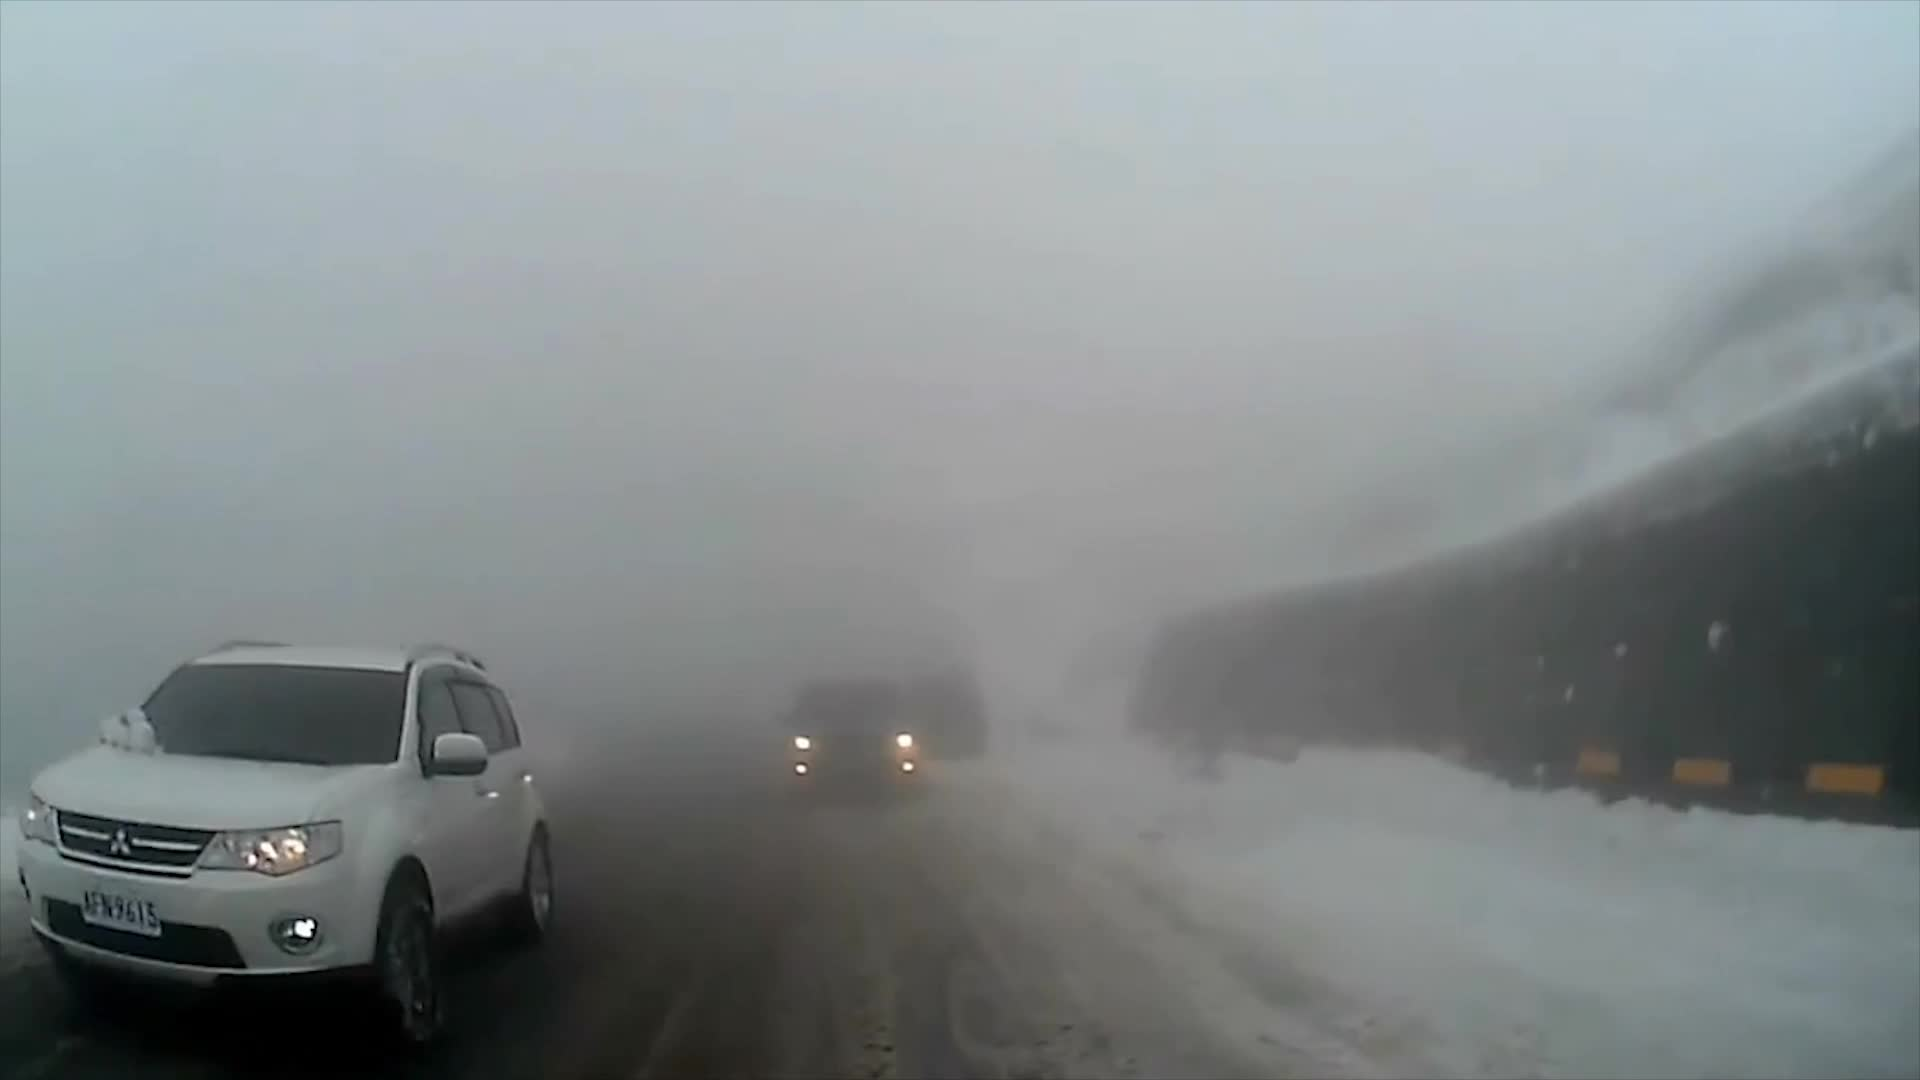vehicle: (22, 636, 556, 1058), (771, 673, 920, 804)
